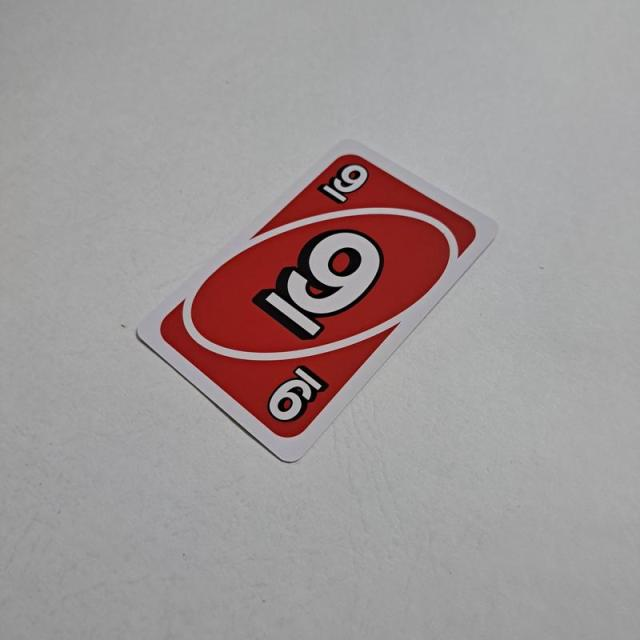Number_9: (312, 156, 372, 205)
Red_Card: (153, 146, 484, 440)
